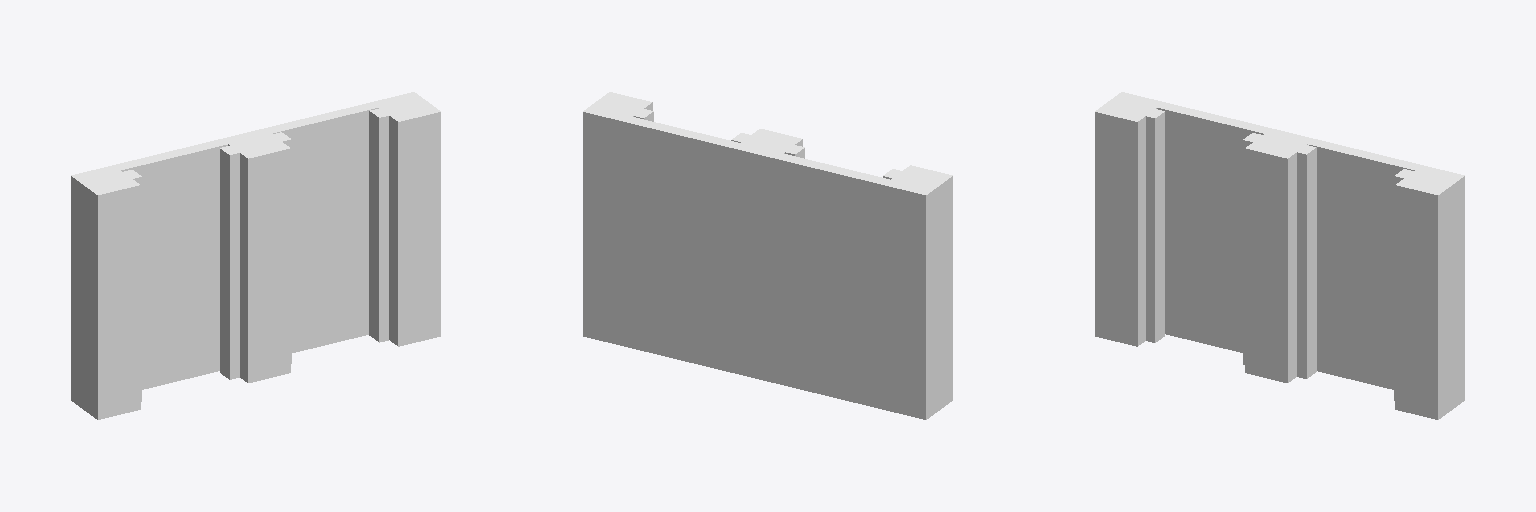
The model's file is windows_tall.obj.
The picture shows the model from 3 angles: view 1: azimuth 30°, elevation 25°; view 2: azimuth 150°, elevation 25°; view 3: azimuth 330°, elevation 25°; orthographic projection.
Parts seen in each view (by area): view 1: building-windows-high-middle; view 2: building-windows-high-middle; view 3: building-windows-high-middle.
Part boxes in pixels (bbox=[...]): building-windows-high-middle: bbox=[71, 92, 440, 419]; building-windows-high-middle: bbox=[583, 92, 952, 419]; building-windows-high-middle: bbox=[1095, 92, 1464, 419].
Size of the model in its own units: 1 by 0.625 by 0.1372.